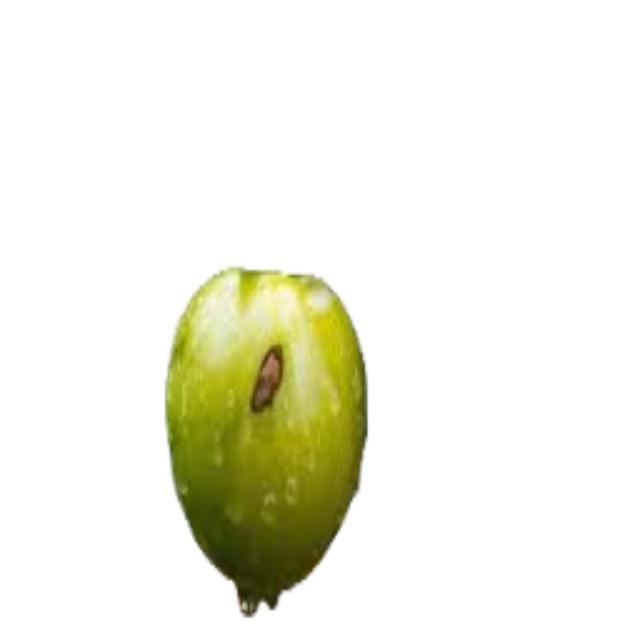defect: (161, 261, 369, 620)
